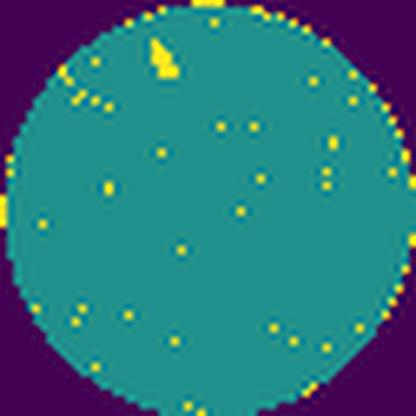Loc: (152, 42, 177, 79)
